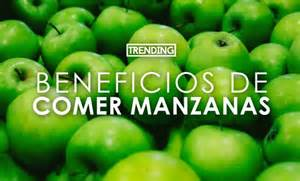apple: (63, 115, 145, 179), (181, 123, 265, 180), (188, 31, 249, 73), (91, 5, 147, 47), (39, 21, 96, 60)
